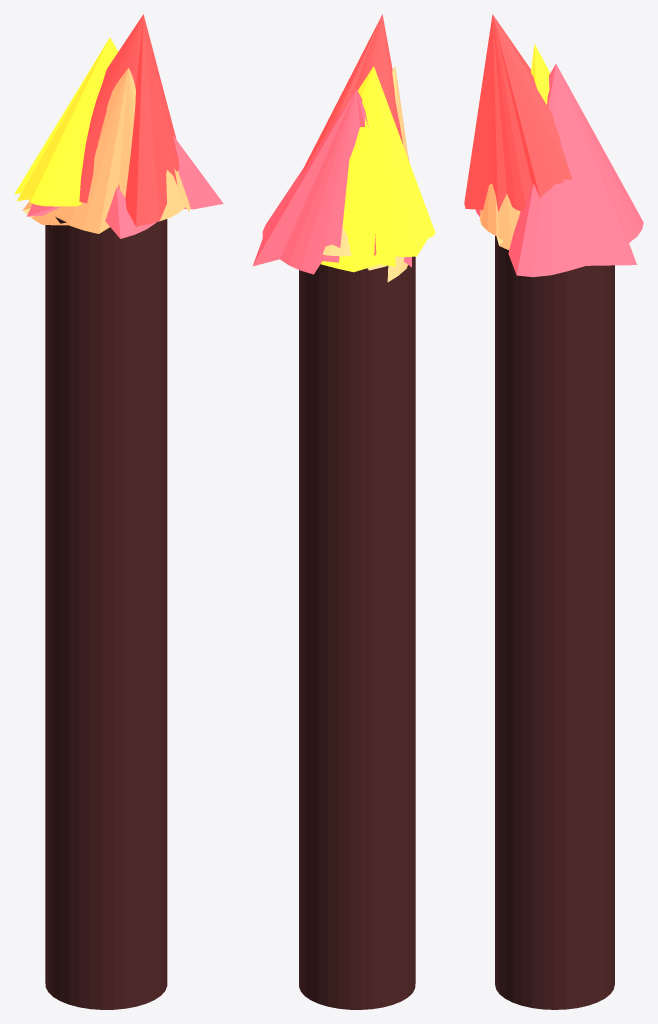
Rendered from torch.glb.
3 views of the same model, side by side, from view 1: azimuth 30°, elevation 25°; view 2: azimuth 150°, elevation 25°; view 3: azimuth 270°, elevation 25° (orthographic). The views are drawn at different scales.
Visible parts, largest first — view 1: stick, flame; view 2: stick, flame; view 3: stick, flame.
Part boxes in pixels (box(x1,y1,x2,y2)): stick: box(45, 217, 167, 1009); flame: box(14, 14, 223, 238); stick: box(299, 256, 415, 1009); flame: box(253, 14, 435, 282); stick: box(495, 235, 614, 1009); flame: box(464, 14, 643, 277).
Size of the model in its own units: 0.4176 by 2.22 by 0.3712.
